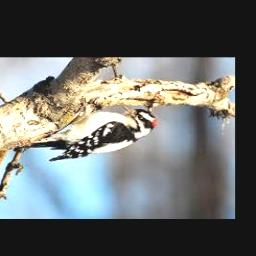Woodpecker: (22, 104, 156, 161)
